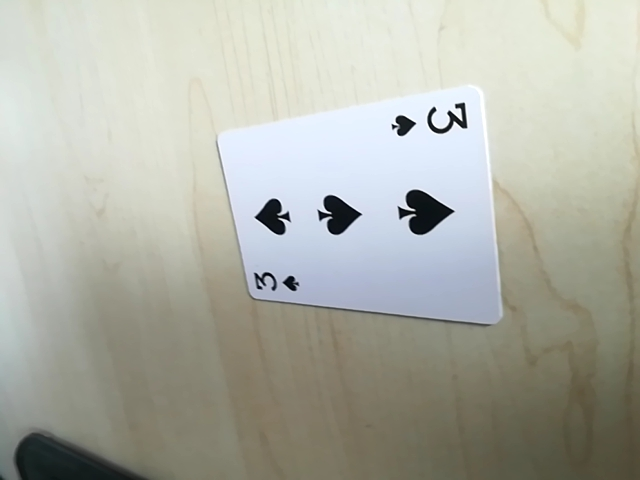ht 3: (389, 97, 473, 142), (246, 266, 305, 299)
